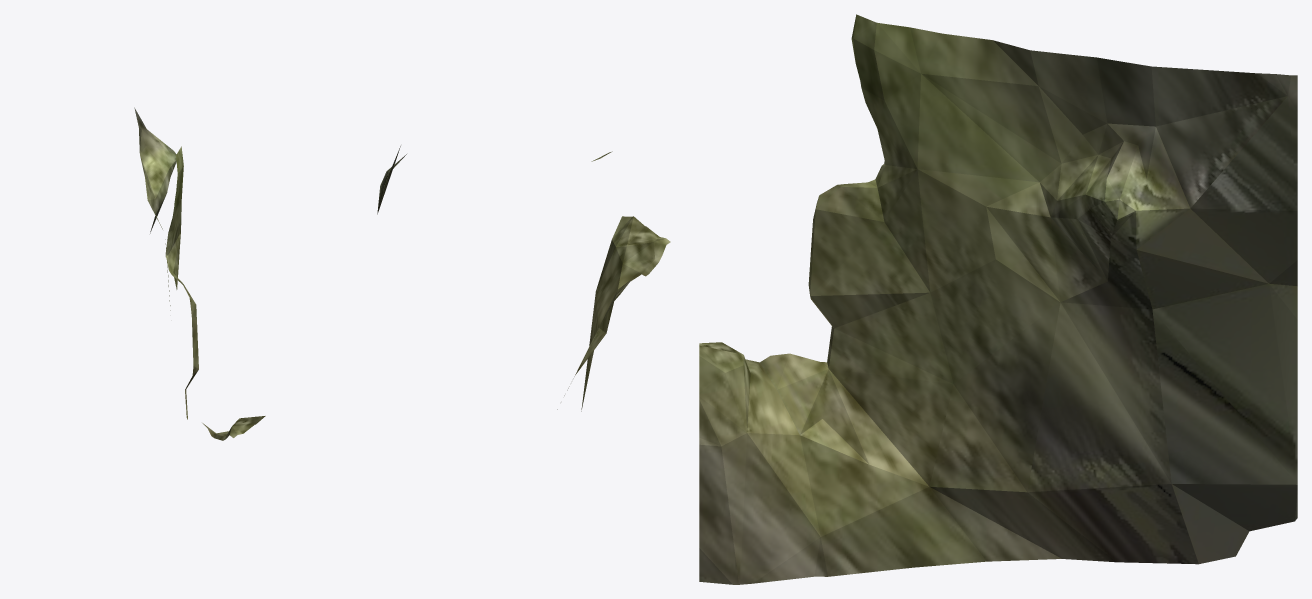
3 renders of one model, left to right at view 1: azimuth 30°, elevation 25°; view 2: azimuth 150°, elevation 25°; view 3: azimuth 270°, elevation 25°, orthographic. The views are drawn at different scales.
Size of the model in its own units: 0.7347 by 2.95 by 2.95.
Materials: 2 (2 with a texture image).
